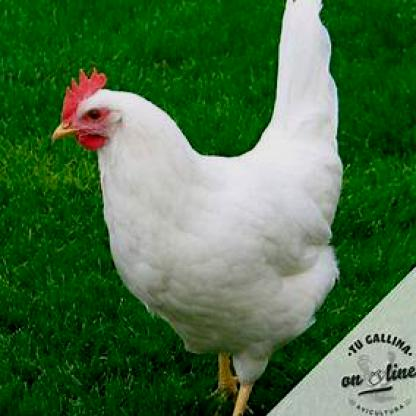chicken: (50, 0, 350, 415)
